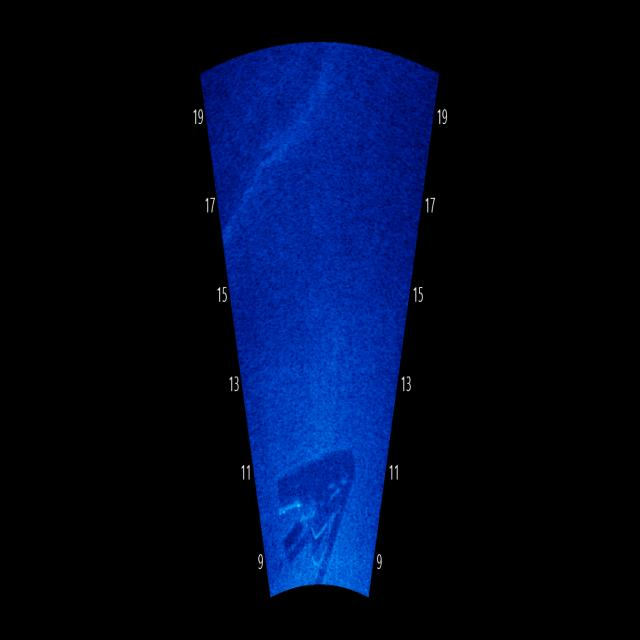triangle: (272, 395, 356, 580)
